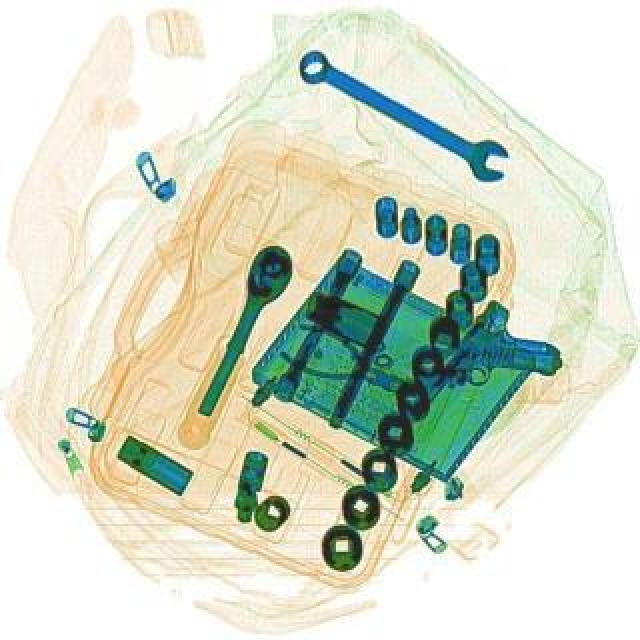gun: (410, 294, 570, 446)
scissors: (288, 38, 520, 188)
wrench: (272, 314, 424, 414)
